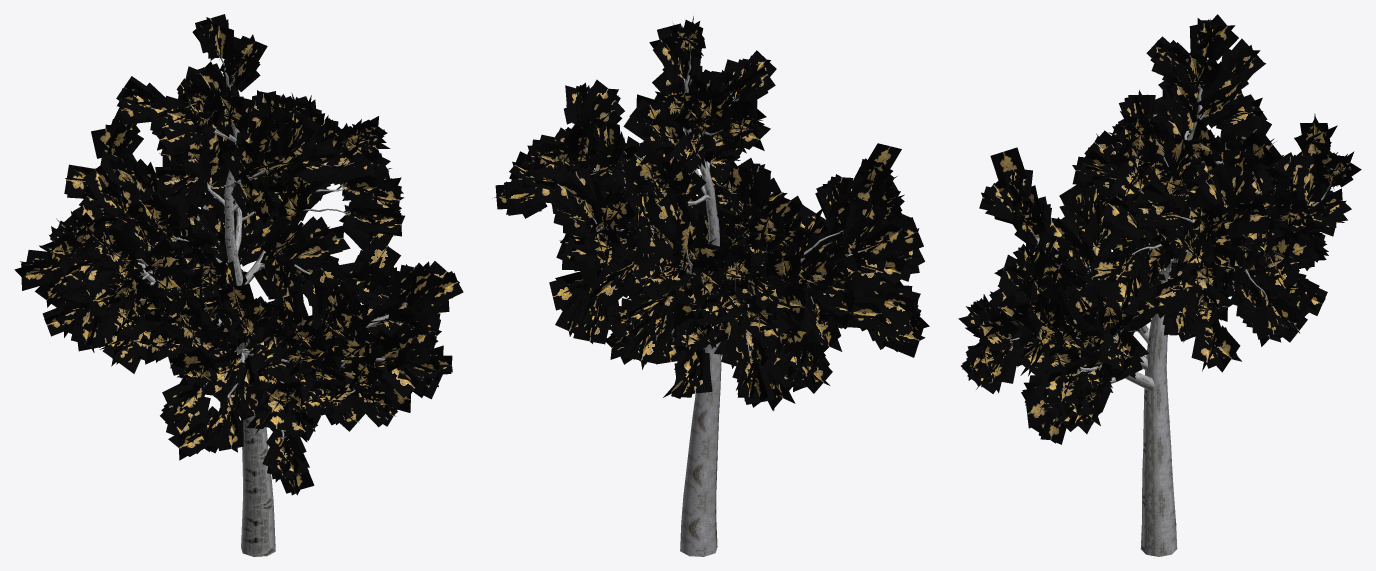
The model's file is eztree-american-beech-stand-c.glb.
3 renders of one model, left to right at view 1: azimuth 30°, elevation 25°; view 2: azimuth 150°, elevation 25°; view 3: azimuth 270°, elevation 25°, orthographic. The views are drawn at different scales.
Visible parts, largest first — view 1: eztree-american-beech-stand-c; view 2: eztree-american-beech-stand-c; view 3: eztree-american-beech-stand-c.
Part boxes in pixels (x1,y1,x2,y2): eztree-american-beech-stand-c: (14,14,463,556); eztree-american-beech-stand-c: (492,16,929,556); eztree-american-beech-stand-c: (958,14,1361,556).
Bounding box in the file's own units: 60.52 × 79.19 × 55.31.
Materials: 2 (2 with a texture image).
